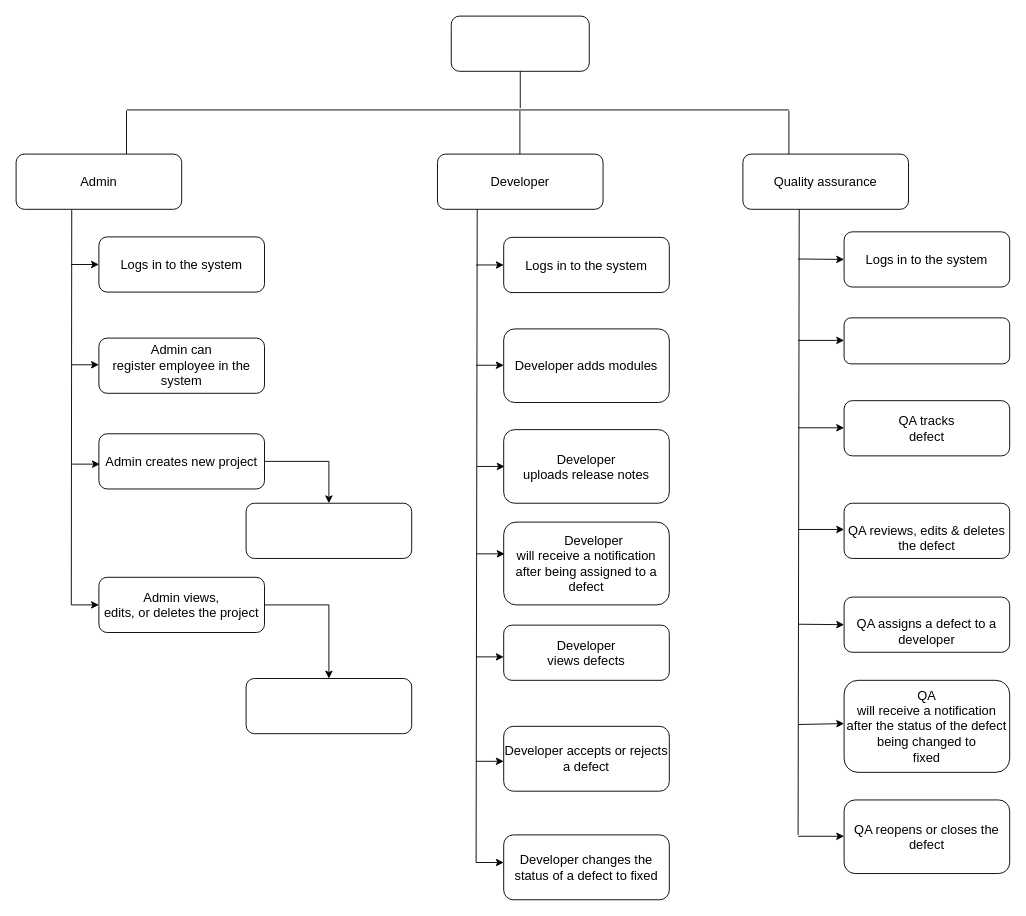
Image size: 1026x916. Some labels were removed from this diagram. Here are the shapes that lost their labels. From the top down, the box of each, then its label:
(450, 15, 589, 71): Defect tracker system
(843, 317, 1010, 364): QA views release notes
(245, 502, 412, 558): Admin assigns members to the project
(245, 678, 412, 734): Admin add or remove members of a project
